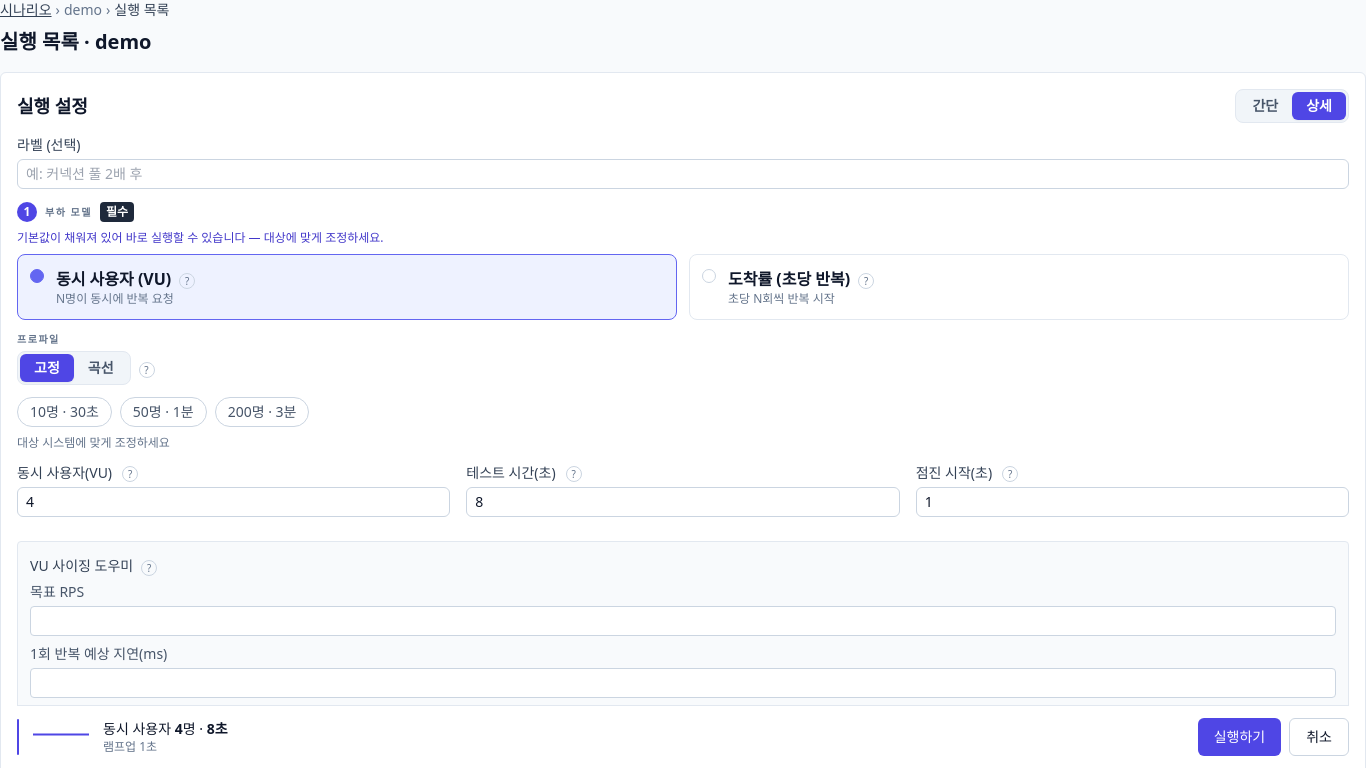
Test: ScenarioRunsPage — retry (A1) › does not re-open the ?retry dialog when createRun's identity changes (deps guard)
Expected: the number field labelled "동시 사용자(VU)" holds "4", [17,487,450,517]
What coordinates should you click on to do the following:
click the button "취소"
I would click on:
 (1319, 737)
Its box is [1289,718,1349,756].
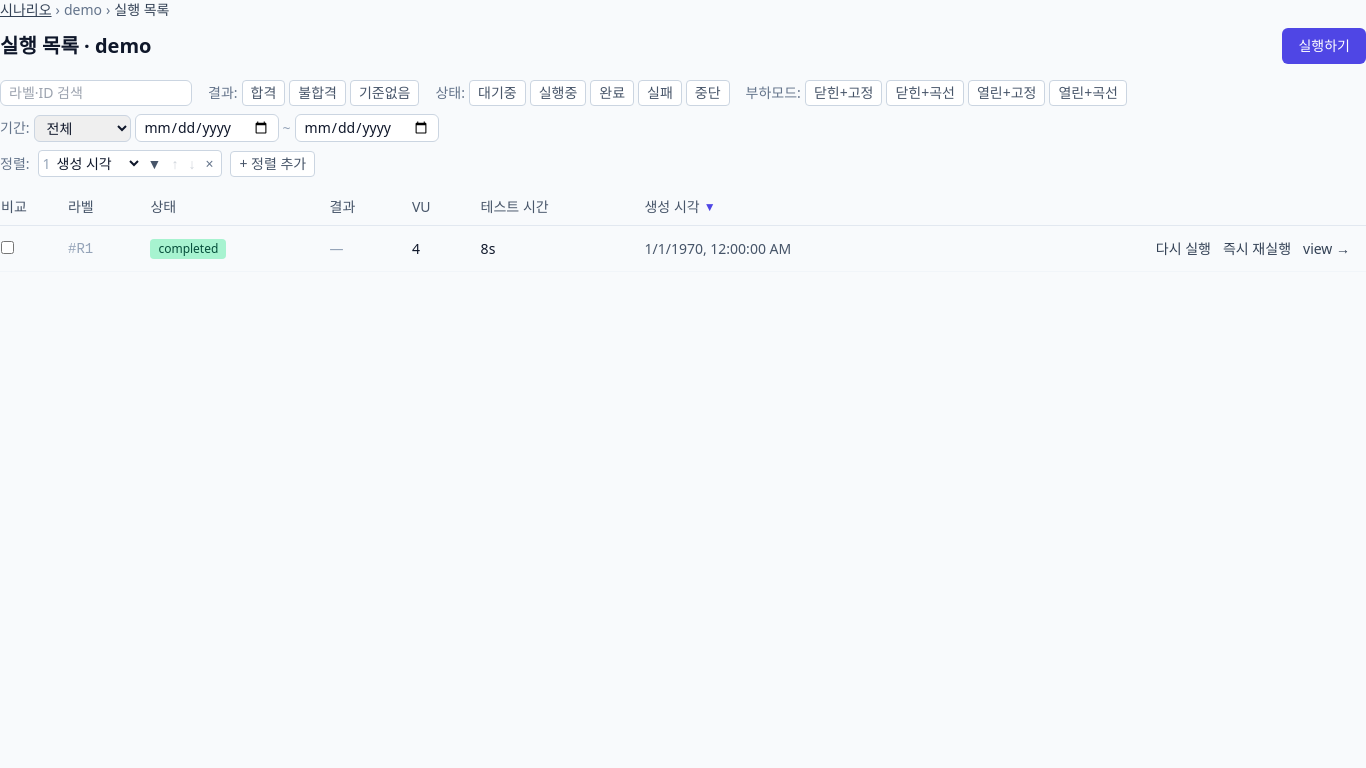
Expected: the radio button labelled "동시 사용자" is gone
Trigger a createRun error → its identity changes → effect re-fires.
What coordinates should you click on to do the following:
click the button "즉시 재실행"
I would click on:
 (1257, 248)
Its box is [1223,238,1291,258].
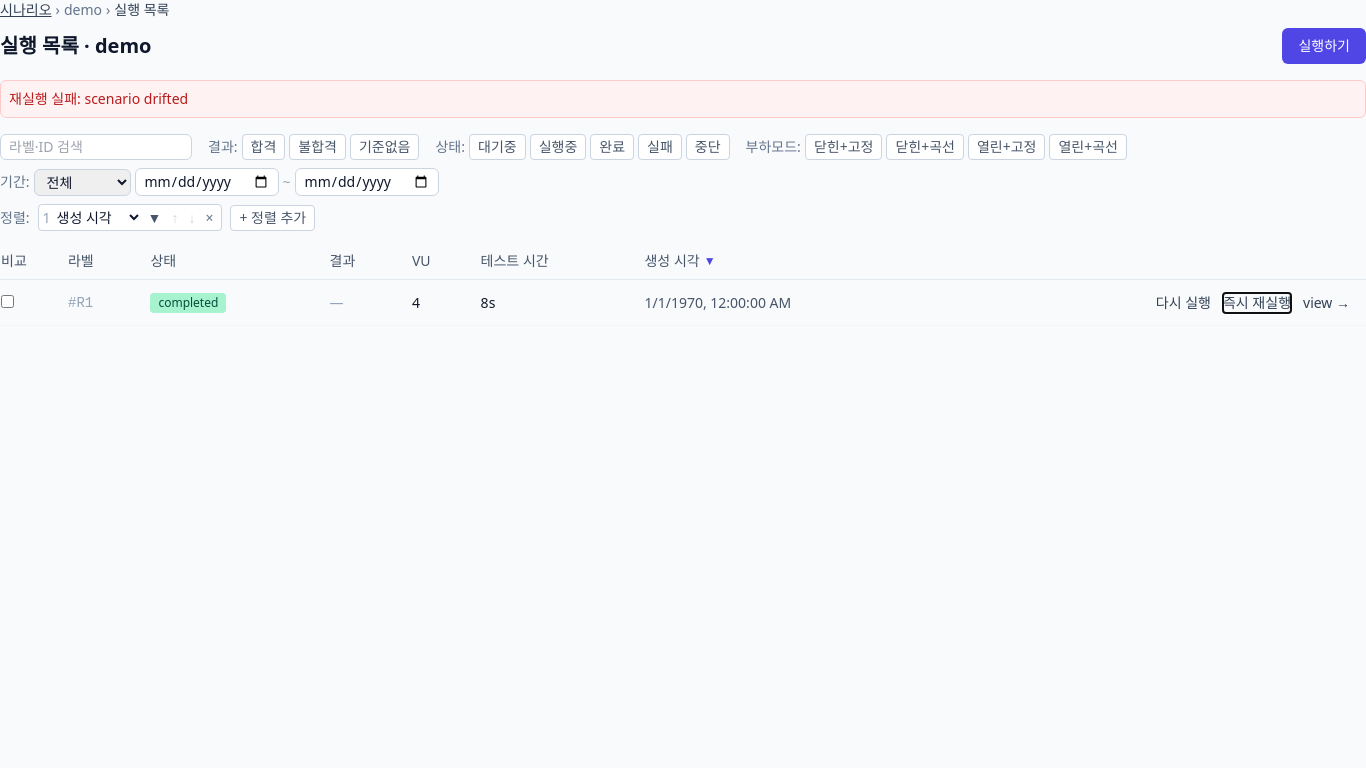
Expected: the radio button labelled "동시 사용자" is not shown
Expected: the message shows "scenario drifted", [84,89,188,108]
